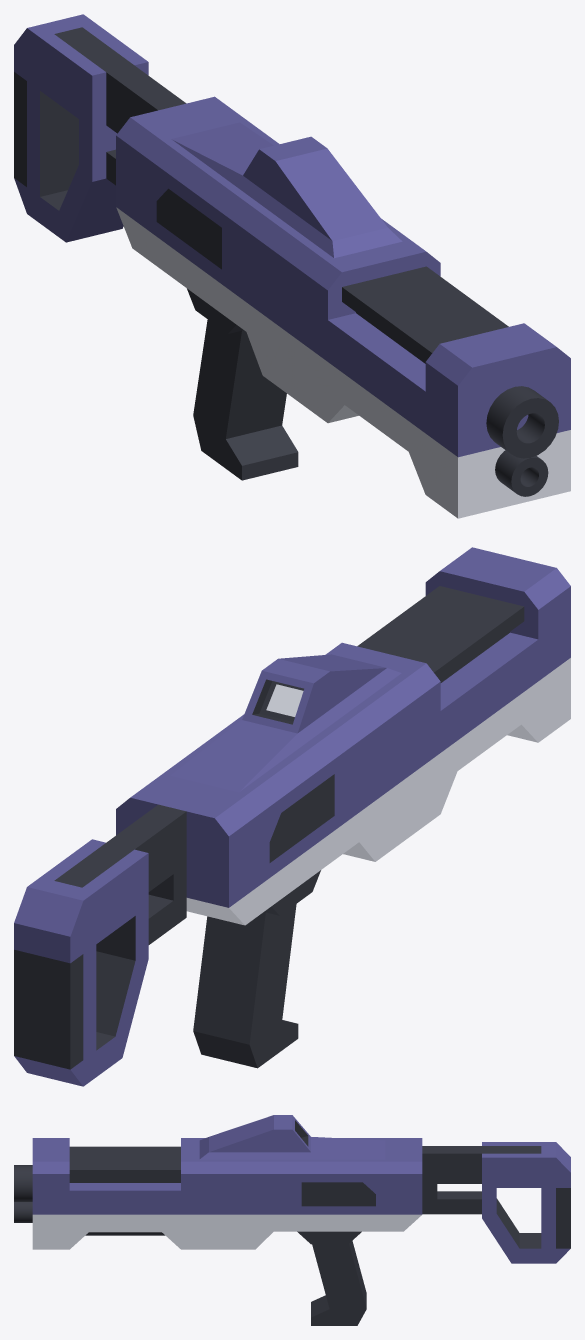
File: pistol1.fbx
3 views of the same model, one above another, from view 1: azimuth 30°, elevation 25°; view 2: azimuth 150°, elevation 25°; view 3: azimuth 270°, elevation 25° (orthographic). The views are drawn at different scales.
Visible parts, largest first — view 1: mergedBlocks; view 2: mergedBlocks; view 3: mergedBlocks.
Part boxes in pixels (x1,y1,x2,y2): mergedBlocks: (14, 14, 570, 518); mergedBlocks: (14, 547, 570, 1086); mergedBlocks: (14, 1115, 570, 1325).
Size of the model in its own units: 4 by 11.62 by 30.
